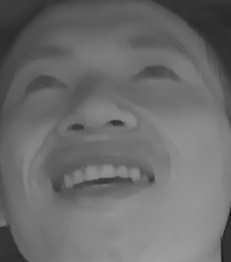eye: (127, 58, 181, 94), (22, 71, 70, 101)
mouth: (42, 150, 162, 212)
